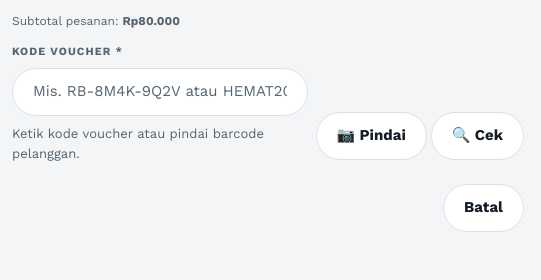
VoucherKasir (T8-09) › menolak cek jika kode voucher kosong
Click the button with aria-label "Cek voucher" at (477, 136), box 431,112 -> 524,160
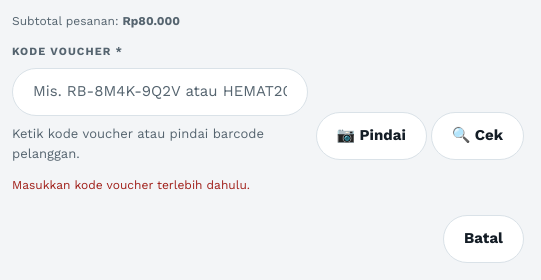
expect the message with test id "voucher-pesan-pakai" shows "Masukkan kode voucher": met, box 12,178 -> 250,192
